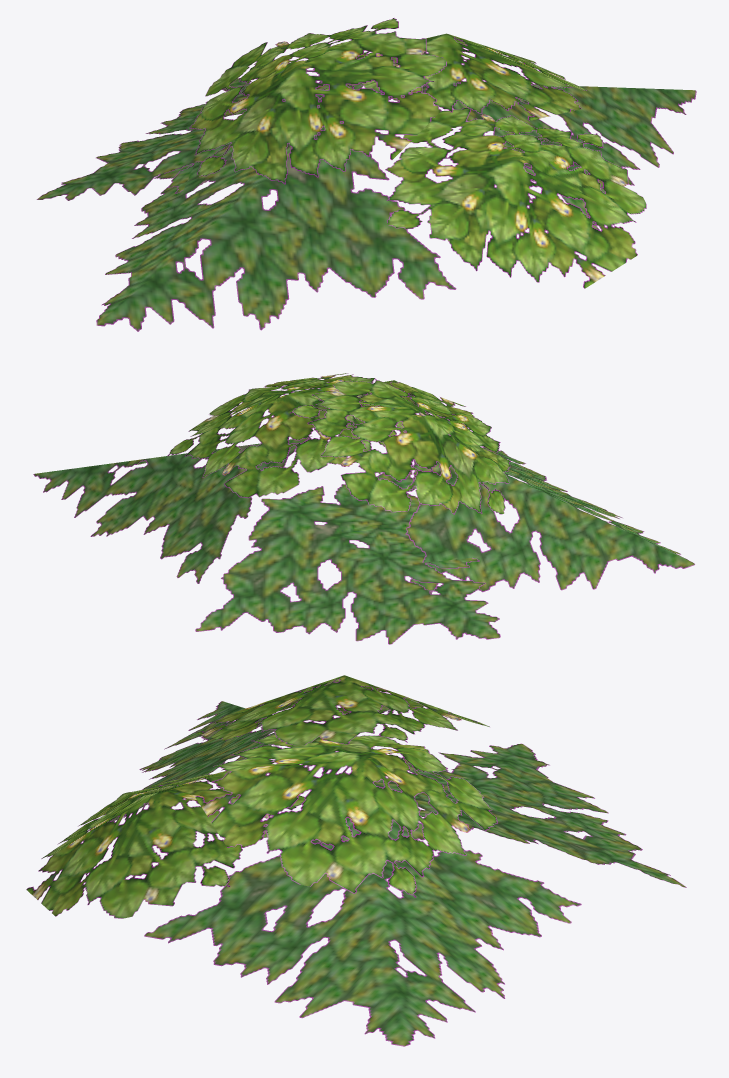
File: n_flower01.glb
3 renders of one model, top to bottom at view 1: azimuth 30°, elevation 25°; view 2: azimuth 150°, elevation 25°; view 3: azimuth 270°, elevation 25°, orthographic. The views are drawn at different scales.
Parts seen in each view (by area): view 1: n_flower01; view 2: n_flower01; view 3: n_flower01.
Part boxes in pixels (x1=…): n_flower01: x1=36, y1=18, x2=696, y2=331; n_flower01: x1=33, y1=373, x2=694, y2=644; n_flower01: x1=26, y1=675, x2=686, y2=1046.
Size of the model in its own units: 4.86 by 1.04 by 3.9.
2 materials, 2 textured.
